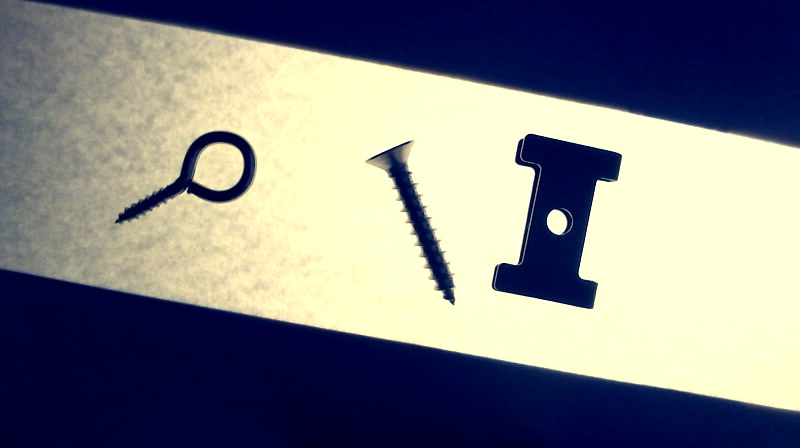O001: (110, 118, 259, 228)
O002: (488, 130, 627, 310)
S001: (356, 137, 464, 311)
